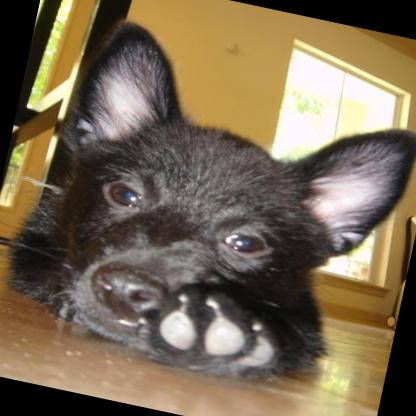schipperke: (0, 1, 416, 407)
